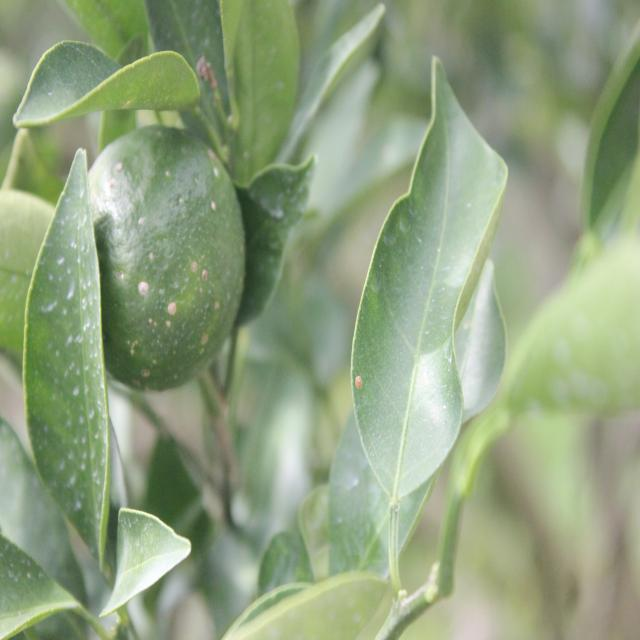canker: (349, 356, 378, 403)
